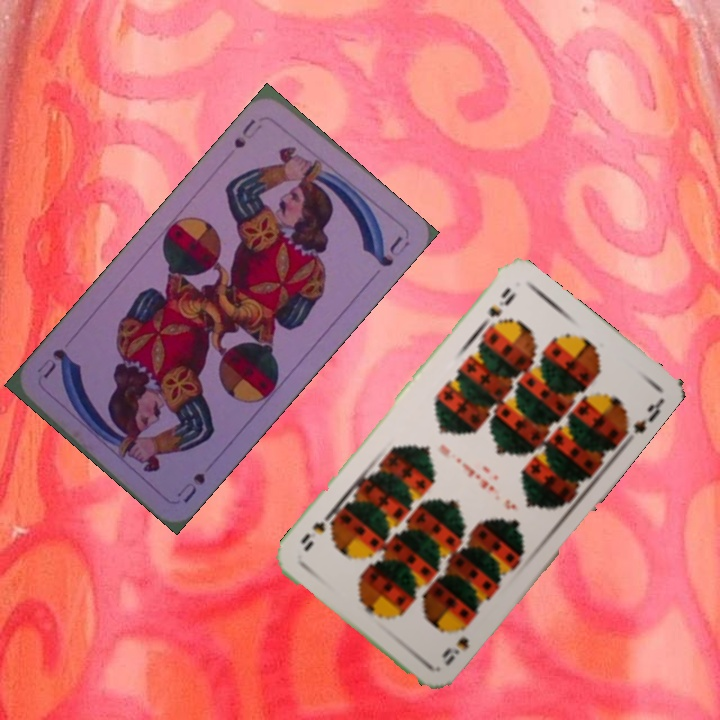S9: (484, 283, 518, 320), (438, 633, 472, 668)
SU: (172, 468, 208, 506), (230, 115, 258, 151)
